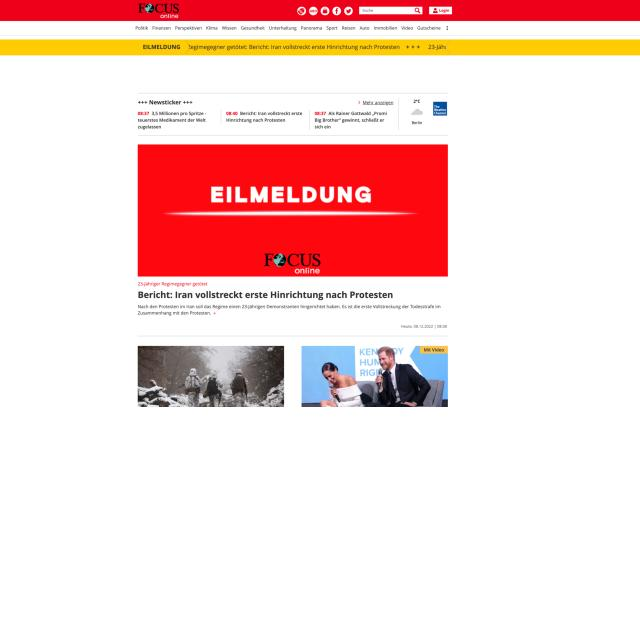input: (359, 6, 422, 15)
logo: (137, 2, 182, 20)
navigation: (133, 22, 444, 34)
